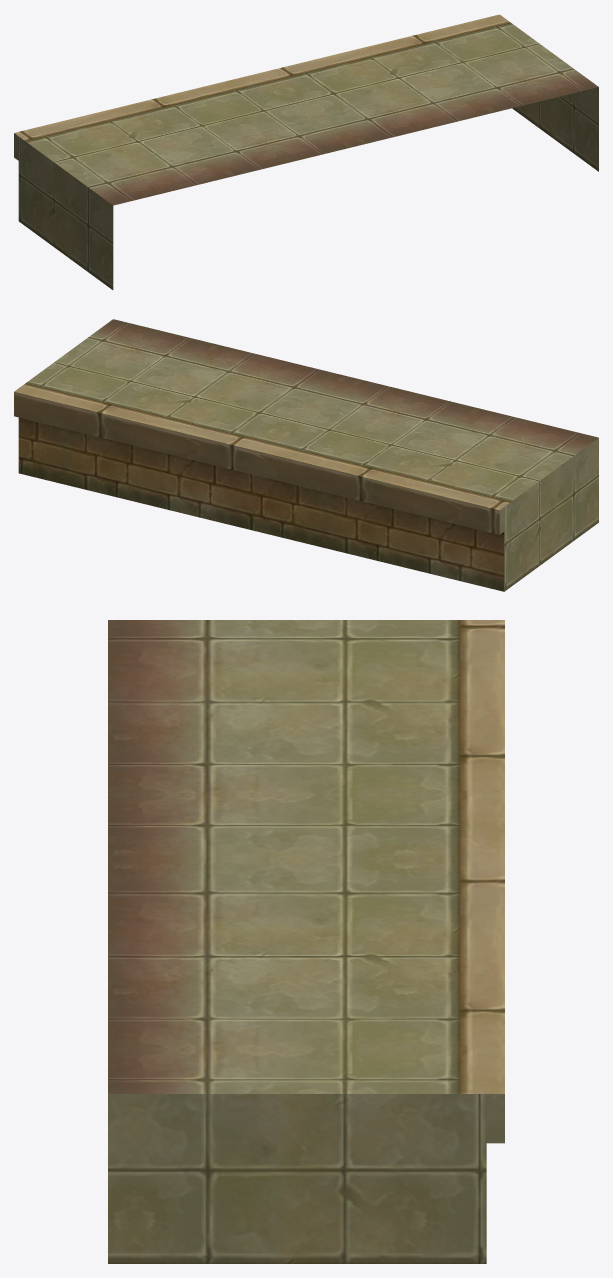
Rendered from Stage_JingJiChang_WeiQiang03.FBX.
The picture shows the model from 3 angles, top to bottom: view 1: azimuth 30°, elevation 25°; view 2: azimuth 150°, elevation 25°; view 3: azimuth 270°, elevation 25°; orthographic projection. The views are drawn at different scales.
Visible parts, largest first — view 1: Stage_JingJiChang_WeiQiang03; view 2: Stage_JingJiChang_WeiQiang03; view 3: Stage_JingJiChang_WeiQiang03.
Boxes of the visible parts, x1,y1,x2,y2 form: Stage_JingJiChang_WeiQiang03: [14, 14, 598, 289]; Stage_JingJiChang_WeiQiang03: [14, 319, 598, 591]; Stage_JingJiChang_WeiQiang03: [108, 620, 504, 1263].
Bounding box in the file's own units: 900 × 150 × 318.
